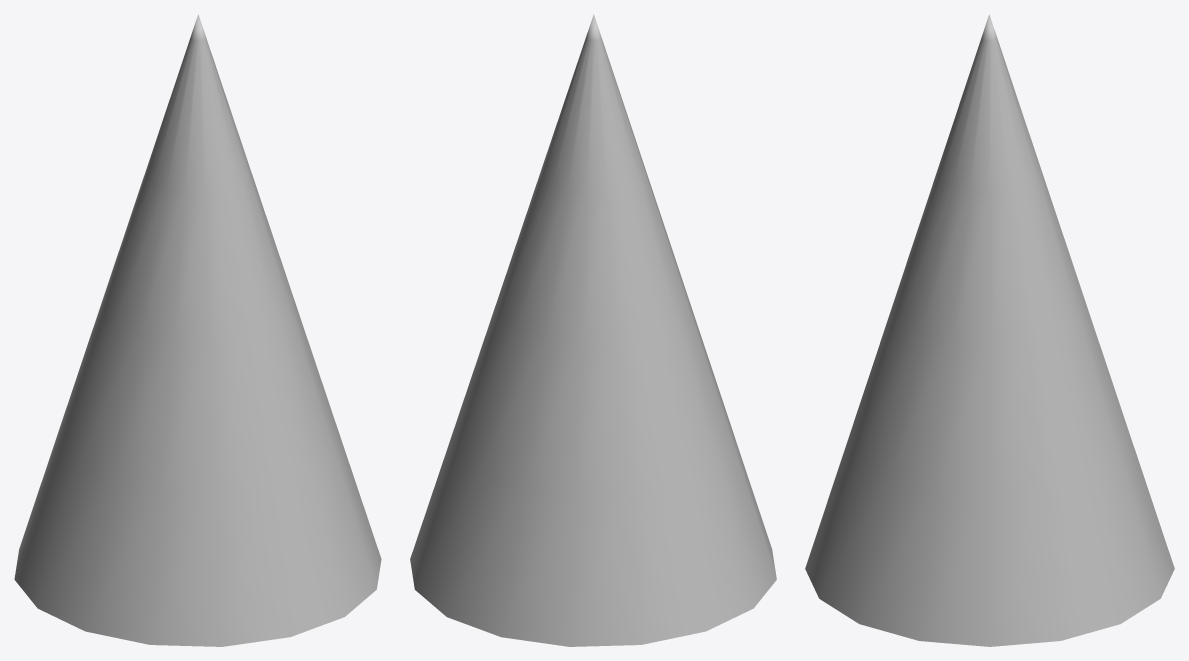
File: jianci.FBX
3 views of the same model, side by side, from view 1: azimuth 30°, elevation 25°; view 2: azimuth 150°, elevation 25°; view 3: azimuth 270°, elevation 25° (orthographic).
Parts seen in each view (by area): view 1: 尖刺; view 2: 尖刺; view 3: 尖刺.
Part boxes in pixels (<box>): 尖刺: <box>14,14,381,646</box>; 尖刺: <box>410,14,776,646</box>; 尖刺: <box>805,14,1174,646</box>.
Bounding box in the file's own units: 17.7 × 29.3 × 17.7.
